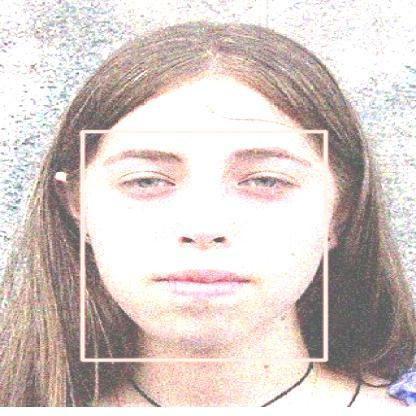without_mask: (82, 131, 325, 360)
